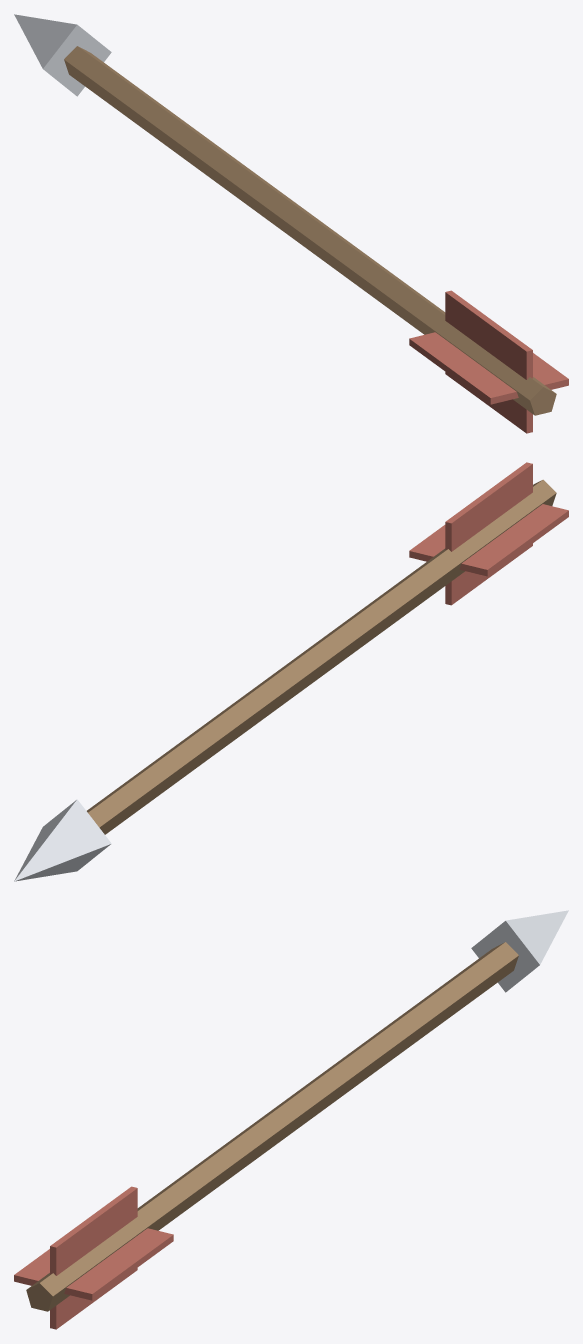
Rendered from Arrow.fbx.
The picture shows the model from 3 angles, top to bottom: view 1: azimuth 30°, elevation 25°; view 2: azimuth 150°, elevation 25°; view 3: azimuth 330°, elevation 25°; orthographic projection.
Visible parts, largest first — view 1: fam_wood, fam_cloth_red, fam_steel; view 2: fam_wood, fam_cloth_red, fam_steel; view 3: fam_wood, fam_cloth_red, fam_steel.
Part boxes in pixels (<box>): fam_wood: <box>64,46,556,415</box>; fam_cloth_red: <box>409,290,568,433</box>; fam_steel: <box>14,14,111,96</box>; fam_wood: <box>87,479,556,834</box>; fam_cloth_red: <box>409,462,568,605</box>; fam_steel: <box>14,799,111,881</box>; fam_wood: <box>26,942,518,1311</box>; fam_cloth_red: <box>14,1186,173,1329</box>; fam_steel: <box>471,910,568,992</box>.
Bounding box in the file's own units: 0.175 × 0.175 × 2.05.
